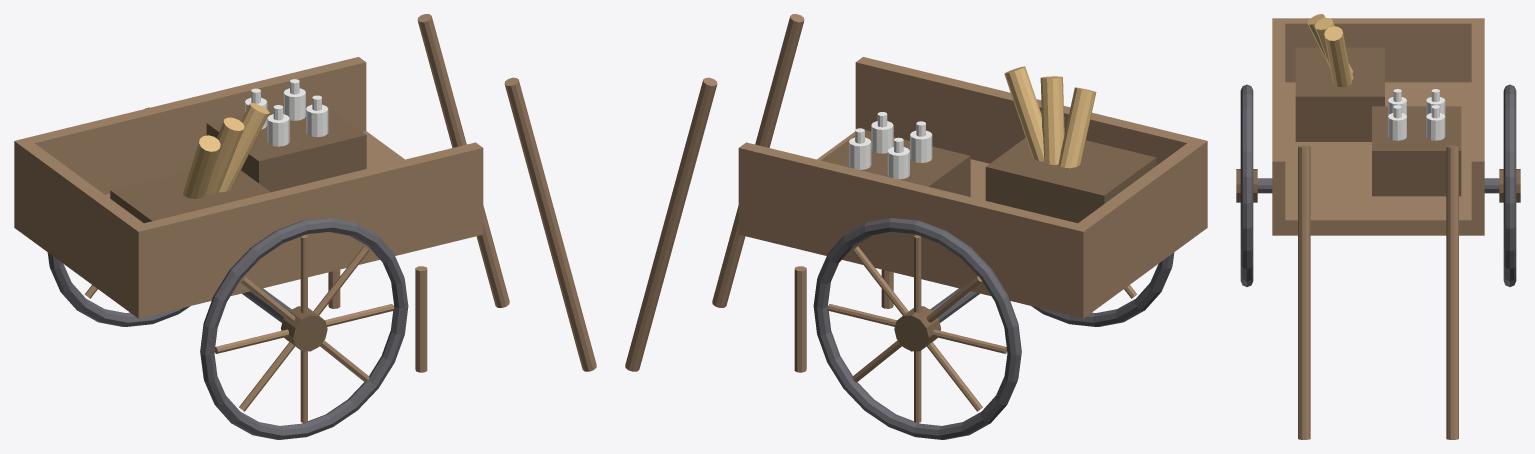
The model's file is market_cart.glb.
3 renders of one model, left to right at view 1: azimuth 30°, elevation 25°; view 2: azimuth 150°, elevation 25°; view 3: azimuth 270°, elevation 25°, orthographic. The views are drawn at different scales.
Visible parts, largest first — view 1: Cube.001, Cube, Cube.002, WheelRim_-0.62, CartBed, Cube.004, CartHandle_-0.35, Cube.003, CartHandle_0.35, WheelRim_0.62, BreadMesh_2, BreadMesh_0 (+12 smaller); view 2: Cube, Cube.001, Cube.002, WheelRim_0.62, Cube.003, CartBed, CartHandle_0.35, CartHandle_-0.35, Cube.004, WheelRim_-0.62, BreadMesh_2, BreadMesh_1 (+14 smaller); view 3: CartBed, Cube.002, Cube.003, Cube.004, CartHandle_0.35, CartHandle_-0.35, Cube.001, Cube, WheelRim_0.62, WheelRim_-0.62, BreadMesh_2, WheelAxle (+6 smaller).
Part boxes in pixels (<box>): Cube.001: <box>131,142,483,309</box>; Cube: <box>14,57,366,224</box>; Cube.002: <box>17,140,151,310</box>; WheelRim_-0.62: <box>200,218,408,439</box>; CartBed: <box>14,131,483,318</box>; Cube.004: <box>206,97,366,192</box>; CartHandle_-0.35: <box>504,77,596,371</box>; Cube.003: <box>110,170,270,223</box>; CartHandle_0.35: <box>417,14,509,307</box>; WheelRim_0.62: <box>47,107,190,326</box>; BreadMesh_2: <box>219,103,269,192</box>; BreadMesh_0: <box>183,135,220,198</box>; Cube: <box>738,142,1090,309</box>; Cube.001: <box>855,57,1207,208</box>; Cube.002: <box>1070,141,1207,310</box>; WheelRim_0.62: <box>813,218,1021,439</box>; Cube.003: <box>985,137,1156,223</box>; CartBed: <box>738,132,1207,318</box>; CartHandle_0.35: <box>625,77,717,371</box>; CartHandle_-0.35: <box>712,14,804,307</box>; Cube.004: <box>821,130,970,196</box>; WheelRim_-0.62: <box>1031,252,1174,326</box>; BreadMesh_2: <box>1004,66,1044,161</box>; BreadMesh_1: <box>1040,76,1064,164</box>; CartBed: <box>1272,82,1484,235</box>; Cube.002: <box>1272,18,1474,82</box>; Cube.003: <box>1295,47,1384,141</box>; Cube.004: <box>1372,106,1461,196</box>; CartHandle_0.35: <box>1446,145,1458,439</box>; CartHandle_-0.35: <box>1298,145,1310,439</box>; Cube.001: <box>1272,18,1285,228</box>; Cube: <box>1471,18,1484,228</box>; WheelRim_0.62: <box>1503,84,1516,286</box>; WheelRim_-0.62: <box>1240,84,1253,286</box>; BreadMesh_2: <box>1324,26,1352,87</box>; WheelAxle: <box>1257,178,1499,193</box>.
Bounding box in the file's own units: 2.21 × 1.46 × 1.34.
